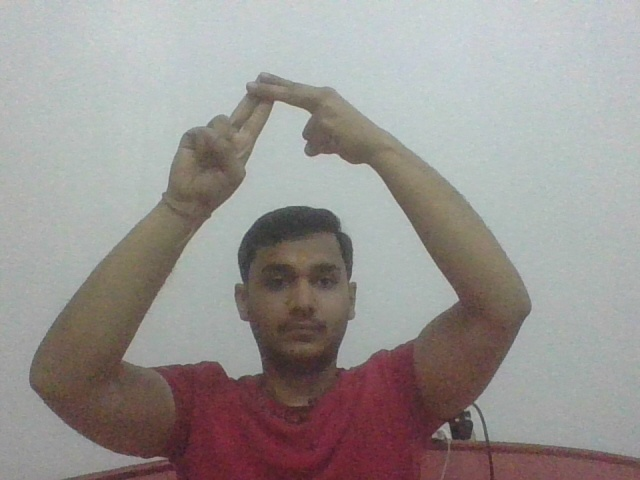F: (169, 66, 372, 198)
